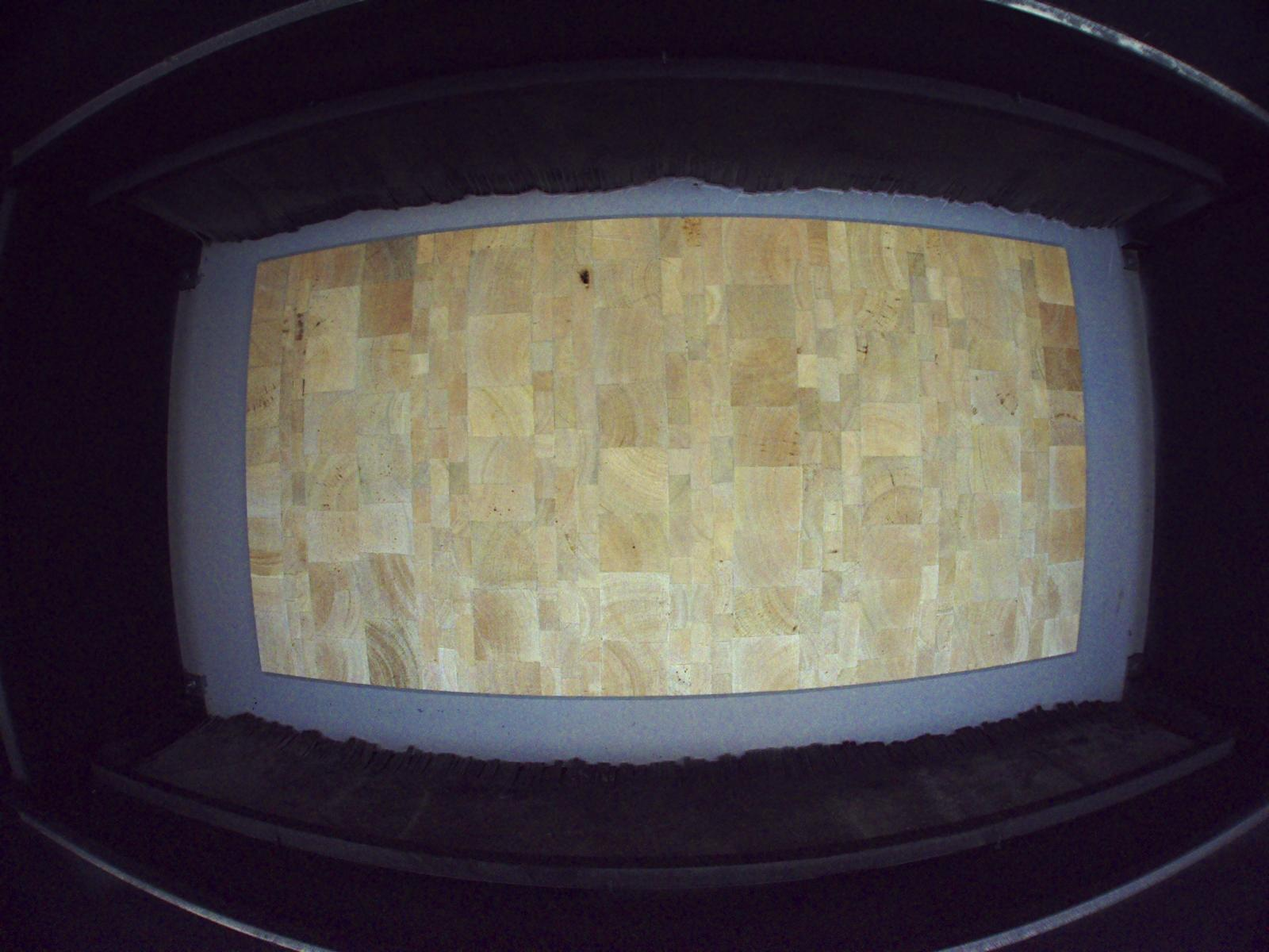nudillo: (578, 270, 591, 293)
sheck_ecuatoriano: (857, 331, 869, 366)
